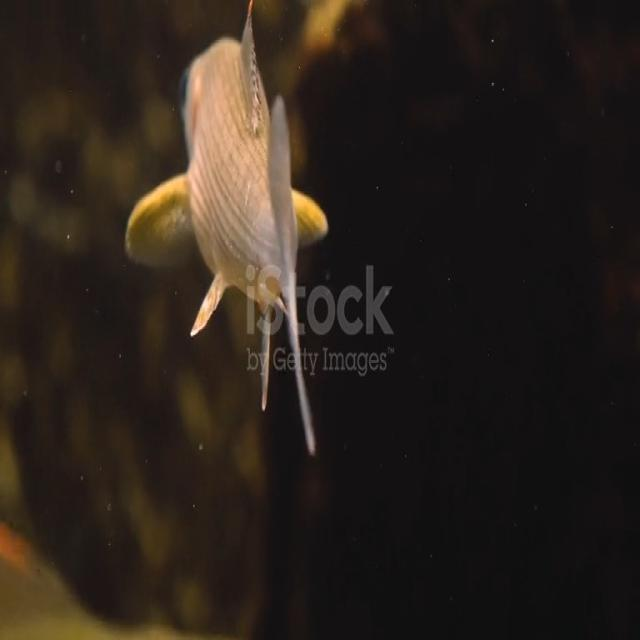fish: (127, 0, 329, 455)
